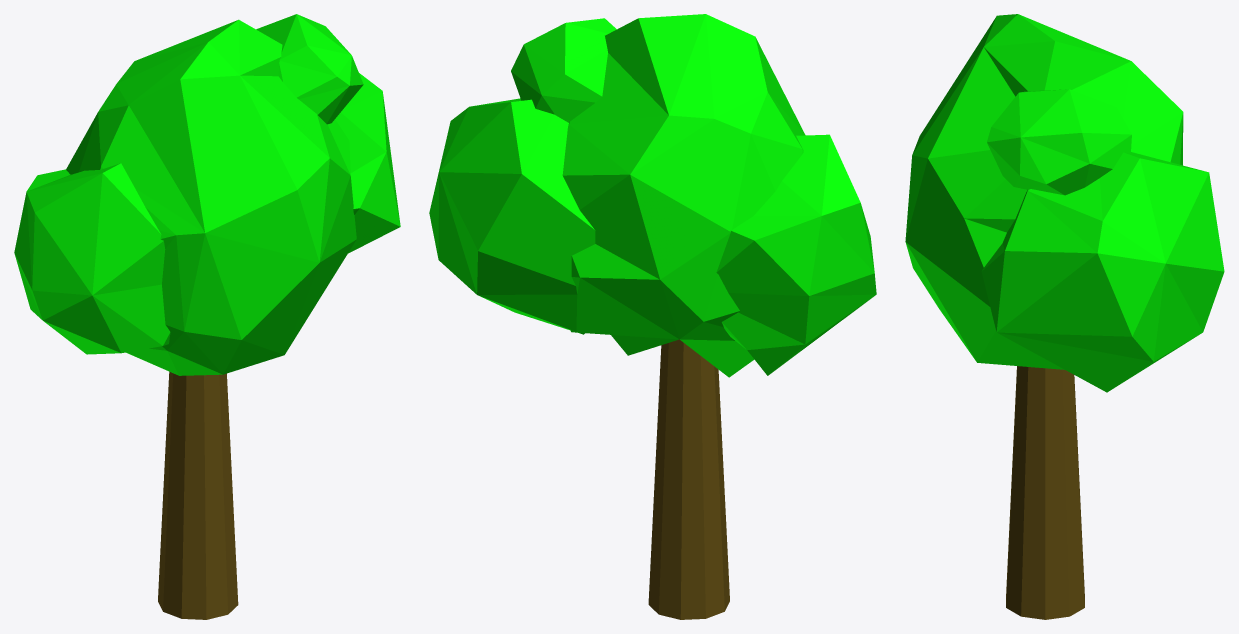
The model's file is SM_Arbre.fbx.
3 renders of one model, left to right at view 1: azimuth 30°, elevation 25°; view 2: azimuth 150°, elevation 25°; view 3: azimuth 270°, elevation 25°, orthographic. The views are drawn at different scales.
Visible parts, largest first — view 1: SM_Arbre; view 2: SM_Arbre; view 3: SM_Arbre.
Boxes of the visible parts, left/top/right/bottom form: SM_Arbre: left=14, top=14, right=400, bottom=619; SM_Arbre: left=429, top=14, right=876, bottom=619; SM_Arbre: left=905, top=14, right=1224, bottom=619.
Bounding box in the file's own units: 4.41 × 6.2 × 3.06.
